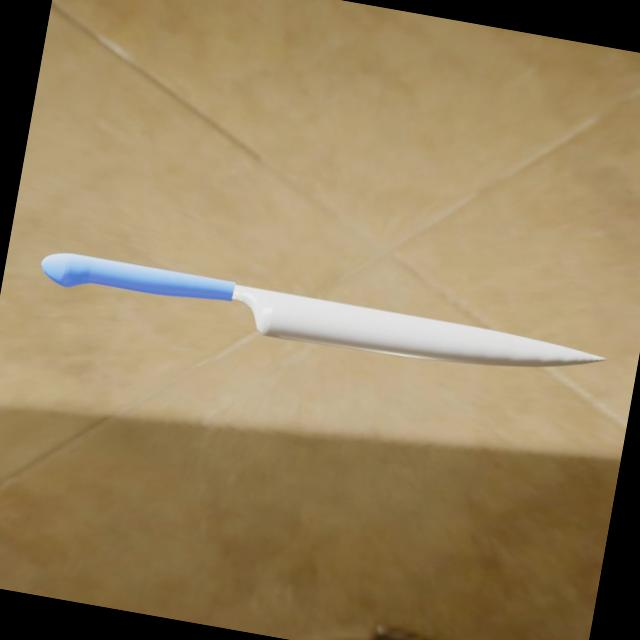knife: (38, 248, 240, 316)
